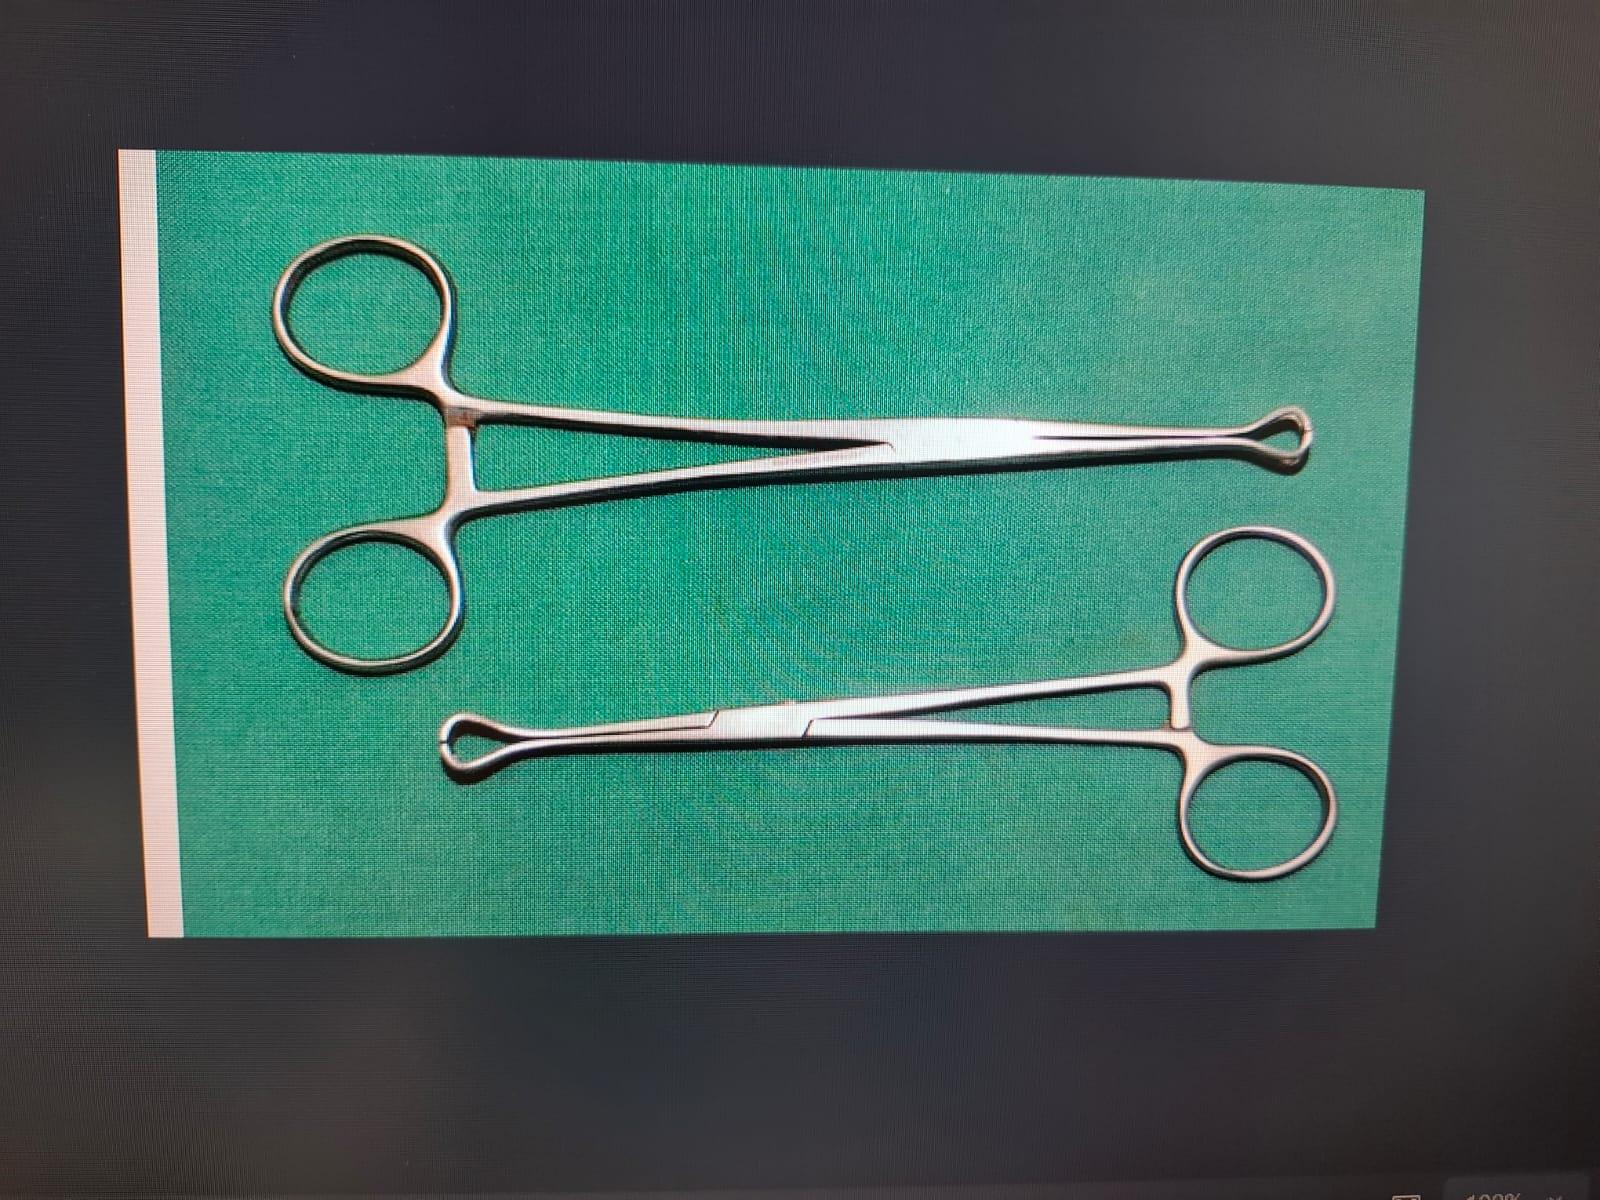Babcock Forceps: (260, 211, 1328, 684), (422, 516, 1358, 887)
